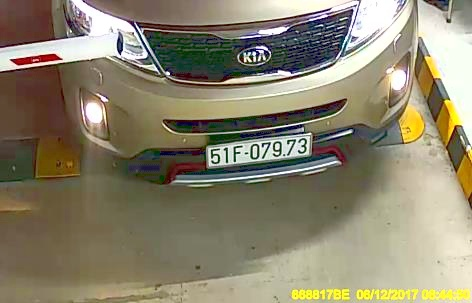plate: (202, 132, 312, 171)
